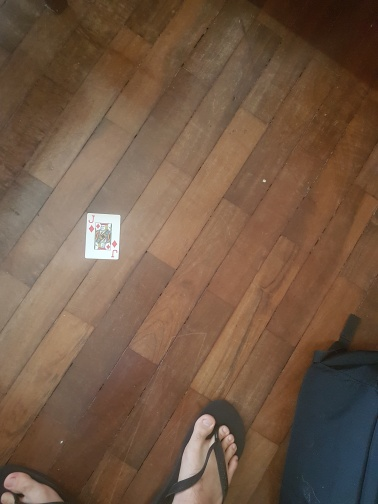jack: (86, 212, 121, 260)
